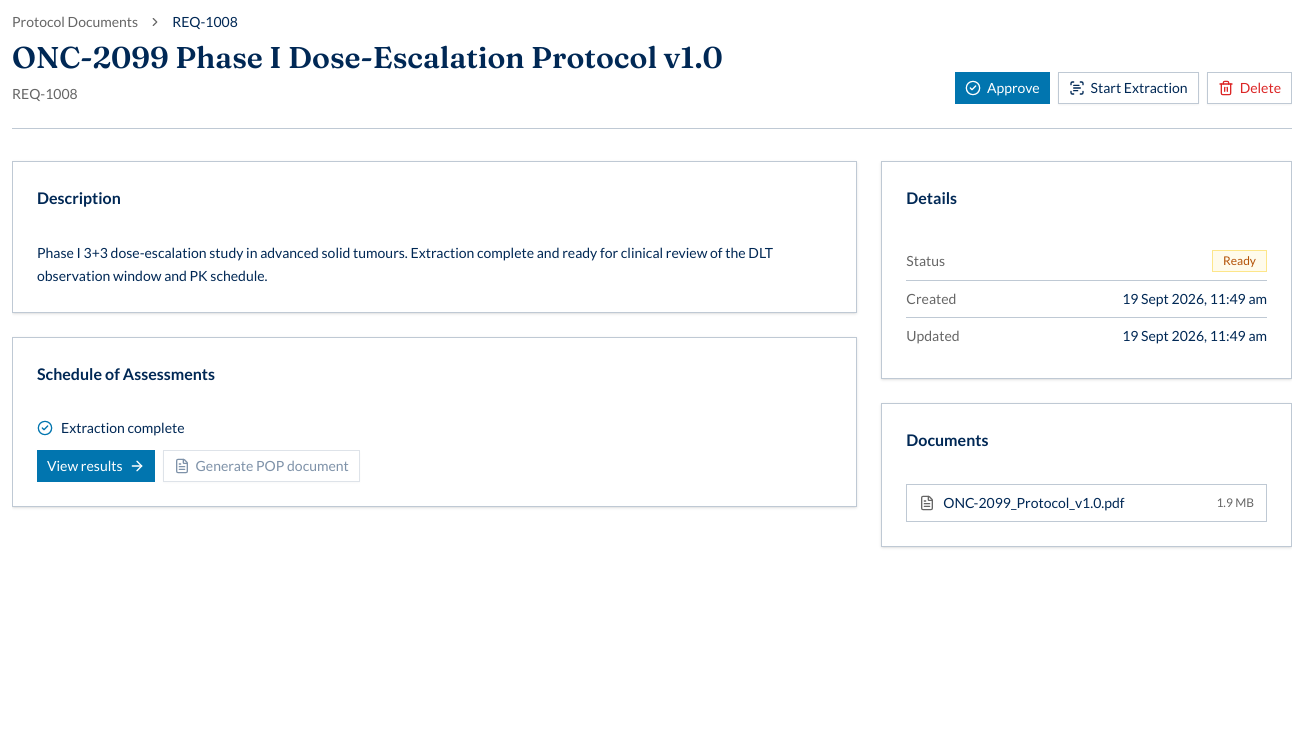
Test: ViewRequestPage › enables Generate POP document only after the request is approved
Expected: the button "Generate POP document" is disabled, [163,450,360,482]
Click the button "Approve" at (1002, 88), box [955,72,1050,104]
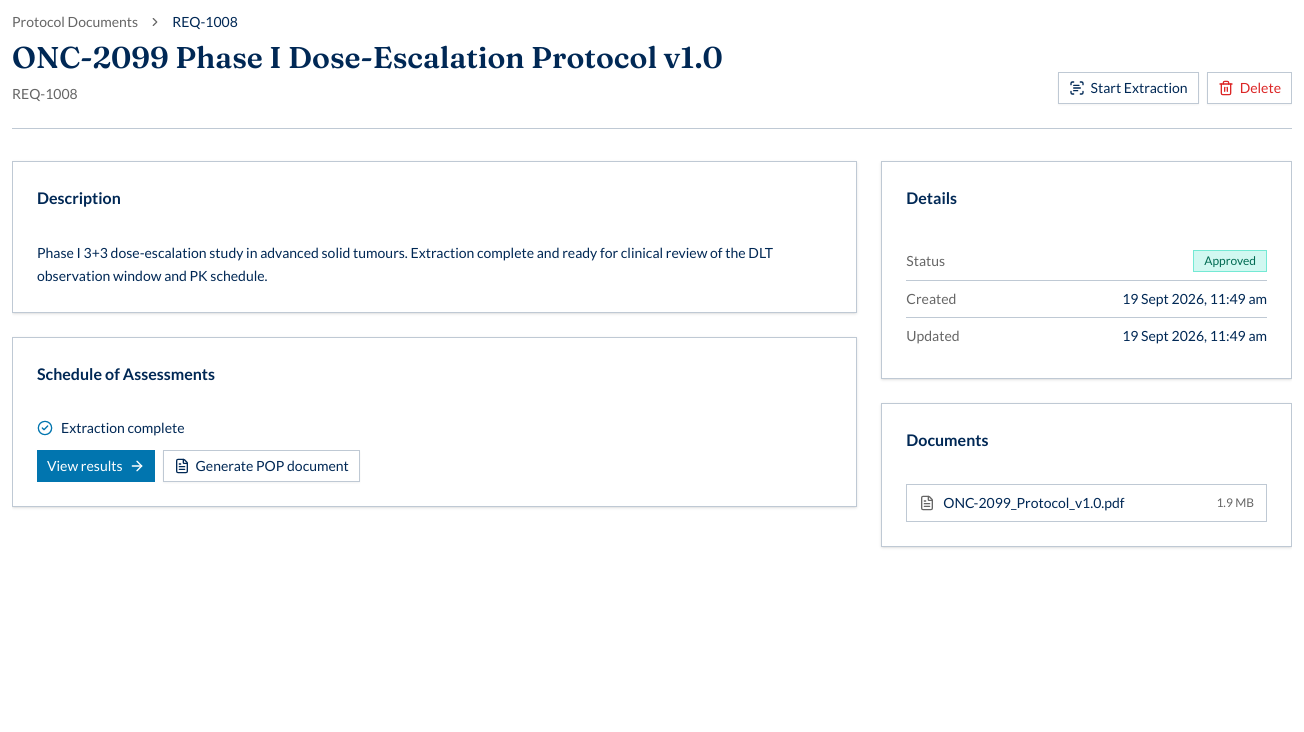
Result: the button "Generate POP document" is enabled at [163,450,360,482]
